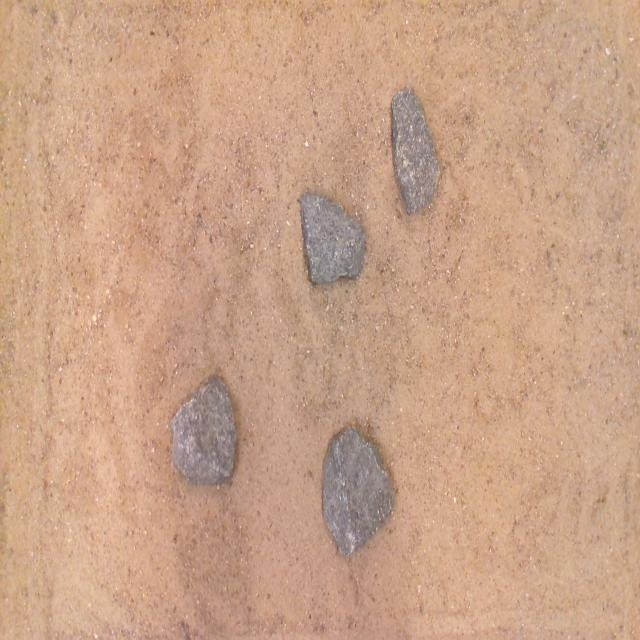rock: (322, 427, 393, 556), (170, 376, 236, 484), (391, 87, 439, 213), (300, 192, 365, 283)
